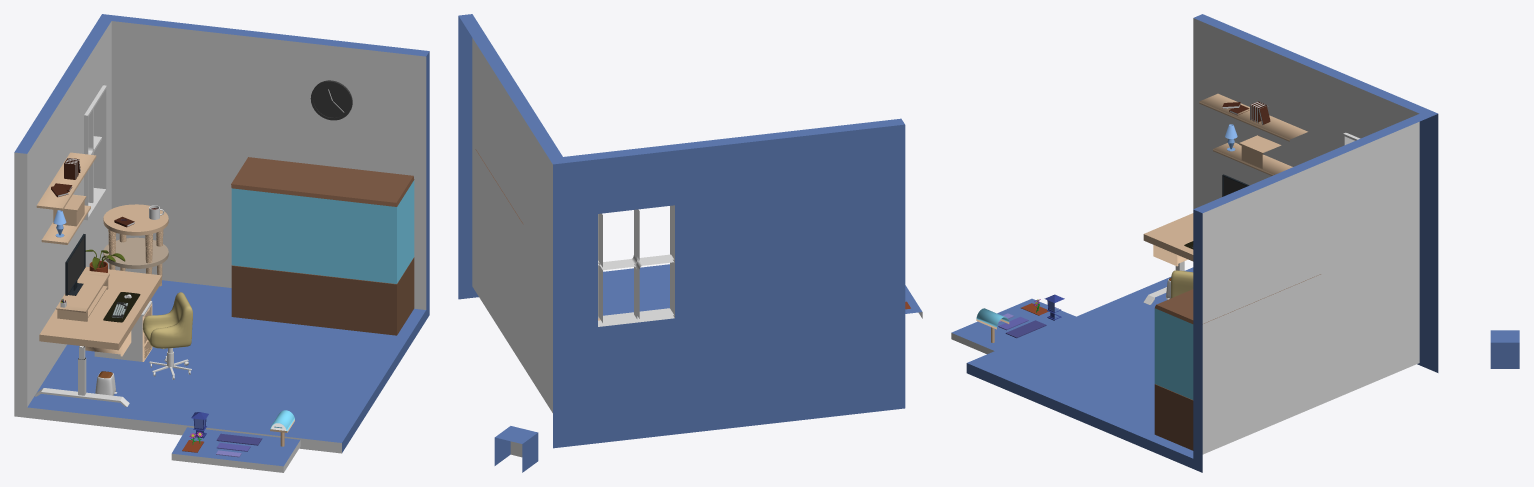
The model's file is RoomV2.glb.
The picture shows the model from 3 angles, left to right: view 1: azimuth 30°, elevation 25°; view 2: azimuth 150°, elevation 25°; view 3: azimuth 270°, elevation 25°; orthographic projection. The views are drawn at different scales.
Parts seen in each view (by area): view 1: Body, Aquarium, Desks, Mini floor, Table stuff, Shelves, Chair, Floor things, Clock, Computer, Mail box; view 2: Body, Cube; view 3: Body, Aquarium, Shelves, Mini floor, Desks, Cube.
Boxes of the visible parts, box(x1,y1,x2,y2) form: Body: box(14, 14, 429, 453); Aquarium: box(231, 157, 414, 335); Desks: box(34, 204, 168, 406); Mini floor: box(171, 427, 300, 472); Table stuff: box(56, 205, 164, 322); Shelves: box(36, 152, 96, 244); Chair: box(143, 292, 192, 348); Floor things: box(94, 301, 191, 395); Clock: box(310, 80, 352, 120); Computer: box(65, 234, 85, 295); Mail box: box(270, 410, 294, 446); Body: box(458, 14, 905, 448); Cube: box(494, 426, 538, 472); Body: box(966, 14, 1438, 472); Aquarium: box(1154, 274, 1320, 450); Shelves: box(1199, 93, 1307, 175); Mini floor: box(951, 298, 1075, 354); Desks: box(1143, 213, 1193, 304); Cube: box(1490, 330, 1519, 368).
Bounding box in the file's own units: 14.38 × 8.73 × 17.33.
